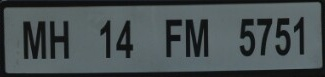character: (21, 17, 48, 61), (183, 16, 209, 59), (48, 18, 70, 59), (163, 17, 183, 58), (115, 19, 134, 59), (238, 16, 256, 56), (255, 16, 273, 55), (275, 16, 292, 56), (292, 15, 306, 56), (98, 19, 112, 59)
